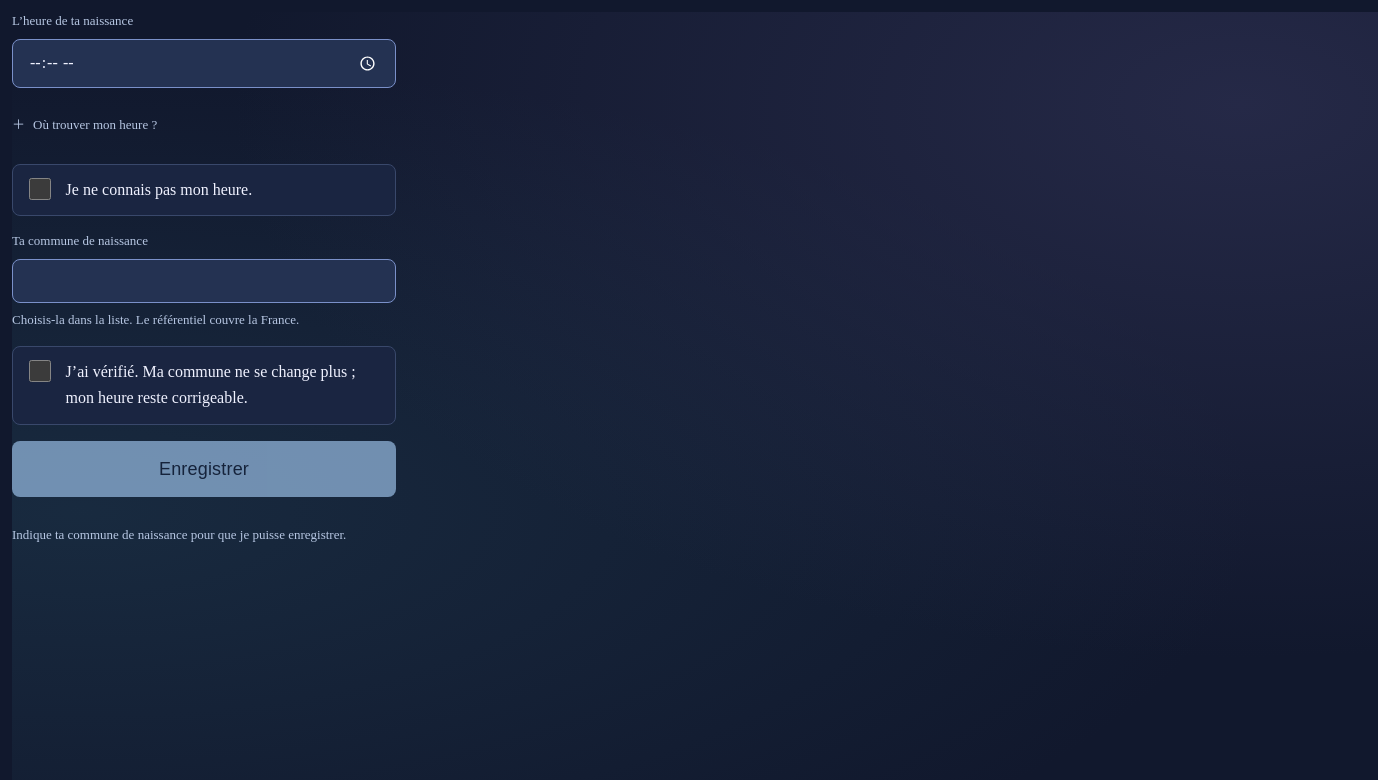
[A2] la commune se demande même quand l’heure manque › [LE TEST QUI COMPTE] cocher « je ne connais pas mon heure » libère le champ
Click the checkbox labelled "Je ne connais pas mon heure." at (40, 189), box left=29, top=178, right=51, bottom=200
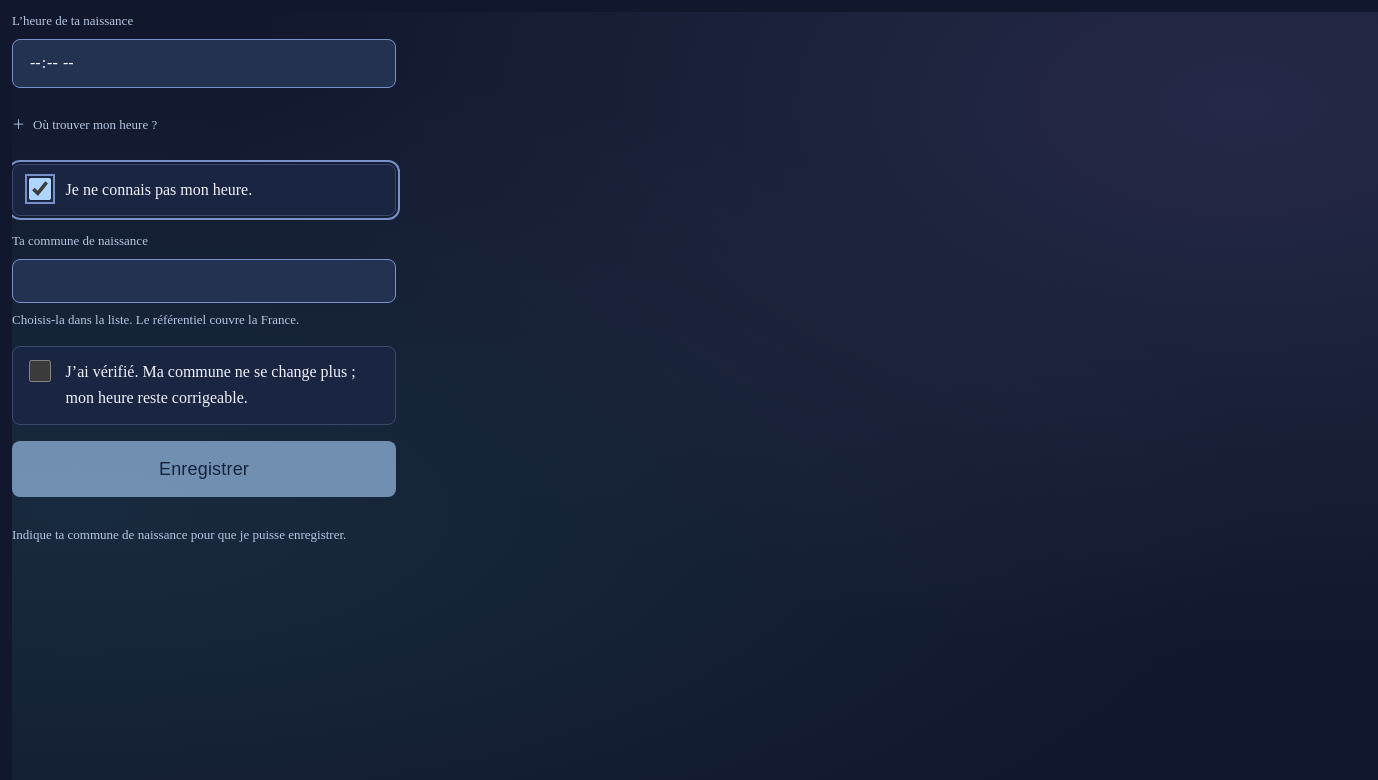
Check: the time field labelled "L’heure de ta naissance" is disabled, box left=12, top=39, right=396, bottom=88
